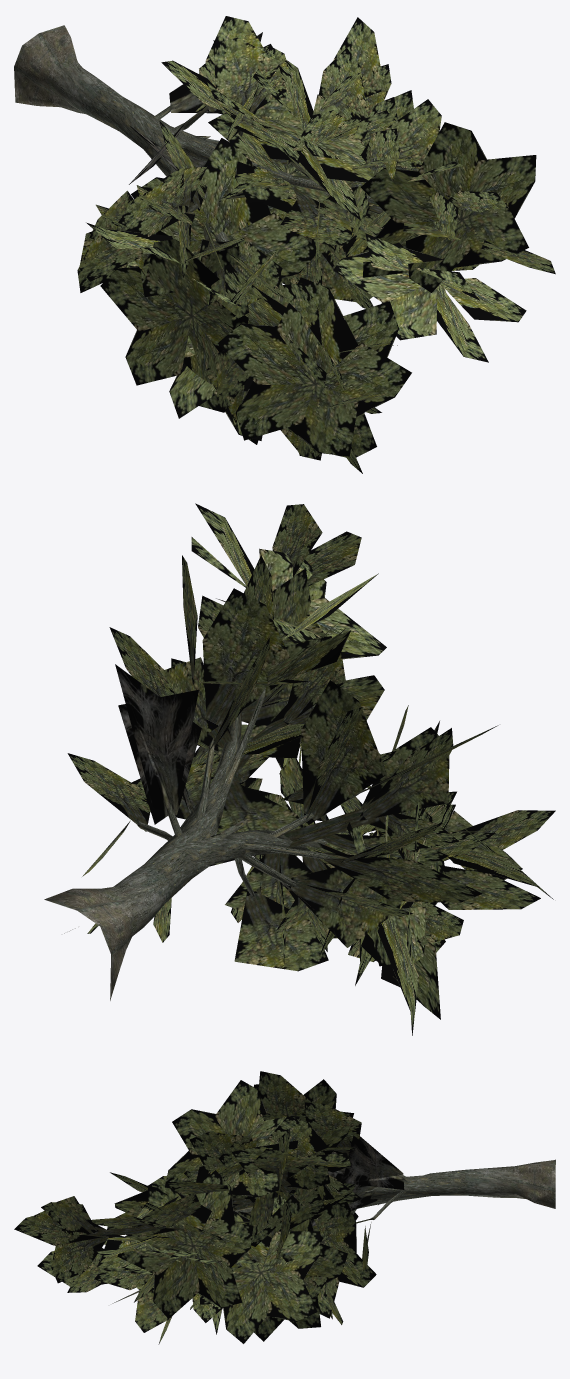
File: tree_grey_oak_lg_a.glb
3 views of the same model, one above another, from view 1: azimuth 30°, elevation 25°; view 2: azimuth 150°, elevation 25°; view 3: azimuth 270°, elevation 25° (orthographic). The views are drawn at different scales.
Bounding box in the file's own units: 242 × 251 × 438.
Materials: 2 (2 with a texture image).
